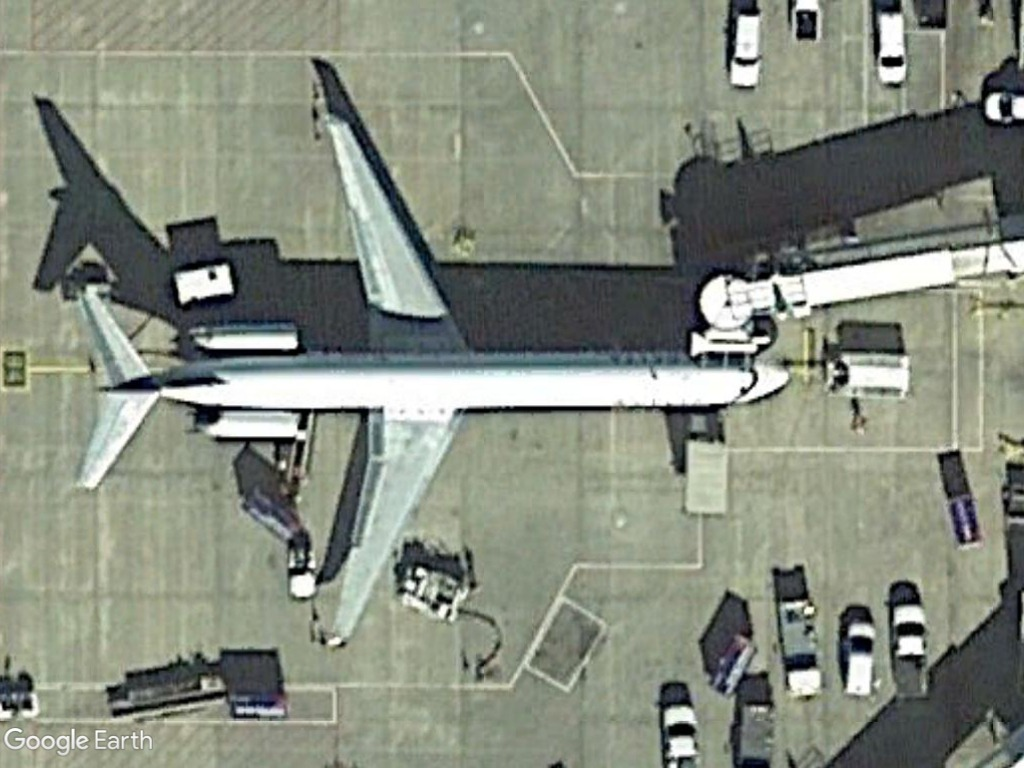car: (840, 609, 878, 704), (724, 8, 765, 92)
chartered: (56, 106, 795, 652)
other: (775, 594, 822, 699), (885, 598, 933, 699)
pushbacktruck: (812, 351, 918, 403)
van: (864, 7, 912, 91)
